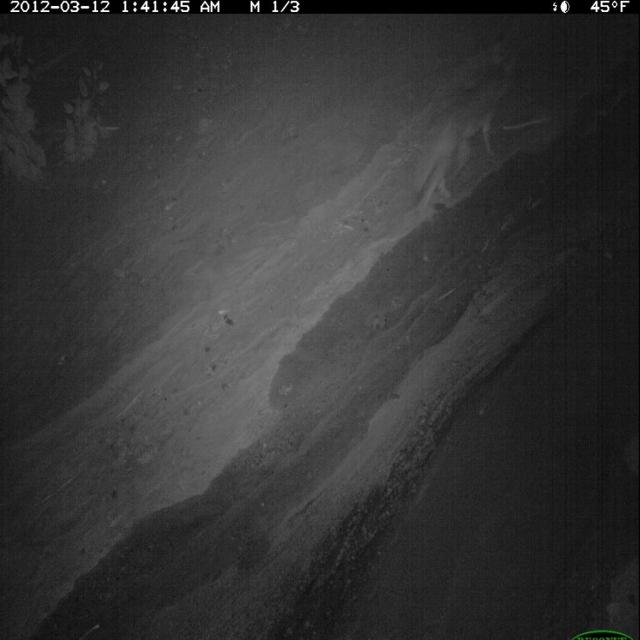coyote: (402, 43, 523, 223)
